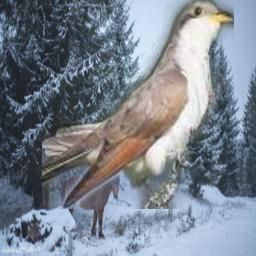Cuckoo: (42, 0, 234, 209)
